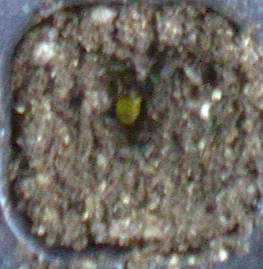chilli seed: (114, 96, 141, 124)
